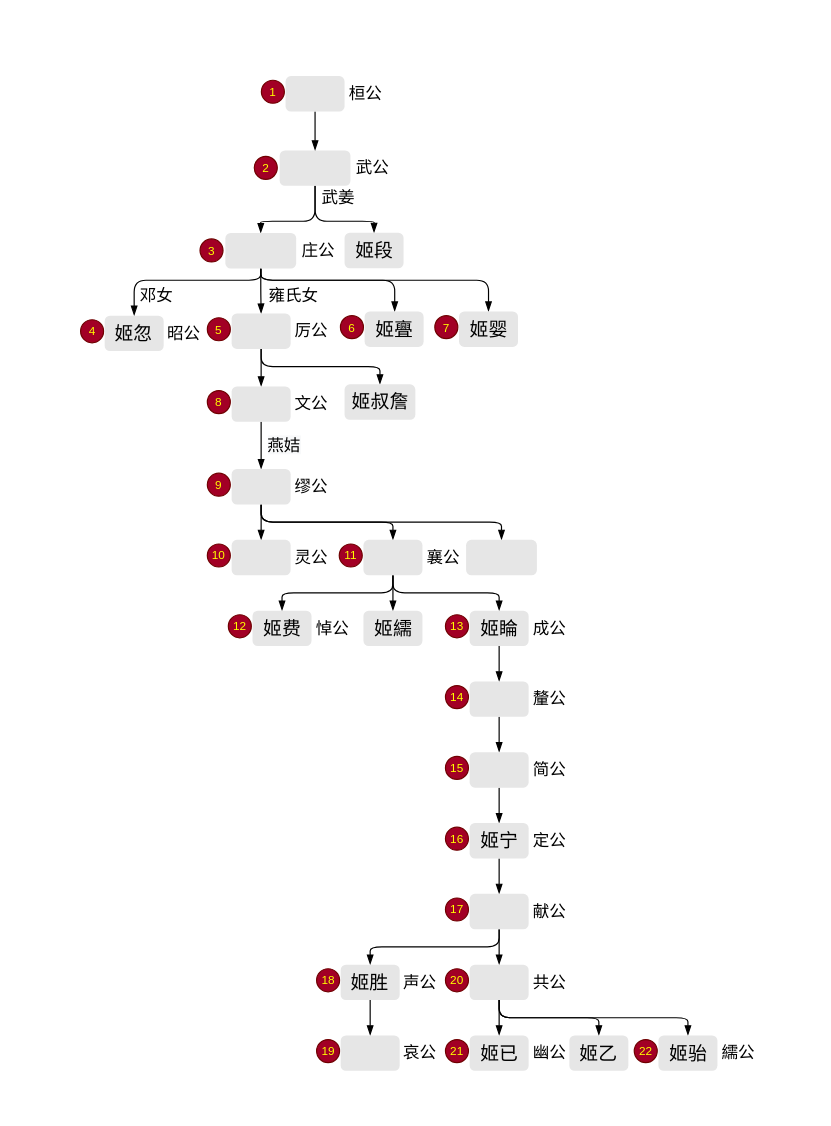
Image size: 831x1126. Some labels were removed from this diagram. The centre of each missing label's shape, as x and y in pixels:
姬丑: pixel 498 981
姬兰: pixel 260 486
姬去疾: pixel 501 557
姬友: pixel 314 93
姬啑: pixel 260 403
姬嘉: pixel 498 769
姬坚: pixel 392 557
姬夷: pixel 260 557
姬寤生: pixel 260 250
姬恽: pixel 498 698
姬掘突: pixel 314 167
姬易: pixel 369 1052
姬突: pixel 260 330
姬虿: pixel 498 911
